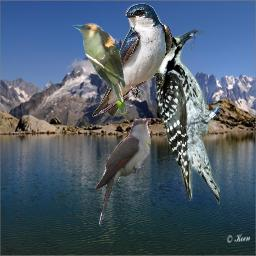Cuckoo: (94, 118, 151, 227), (70, 22, 129, 118)
Swallow: (92, 2, 173, 118)
Woodpecker: (148, 28, 220, 205)
